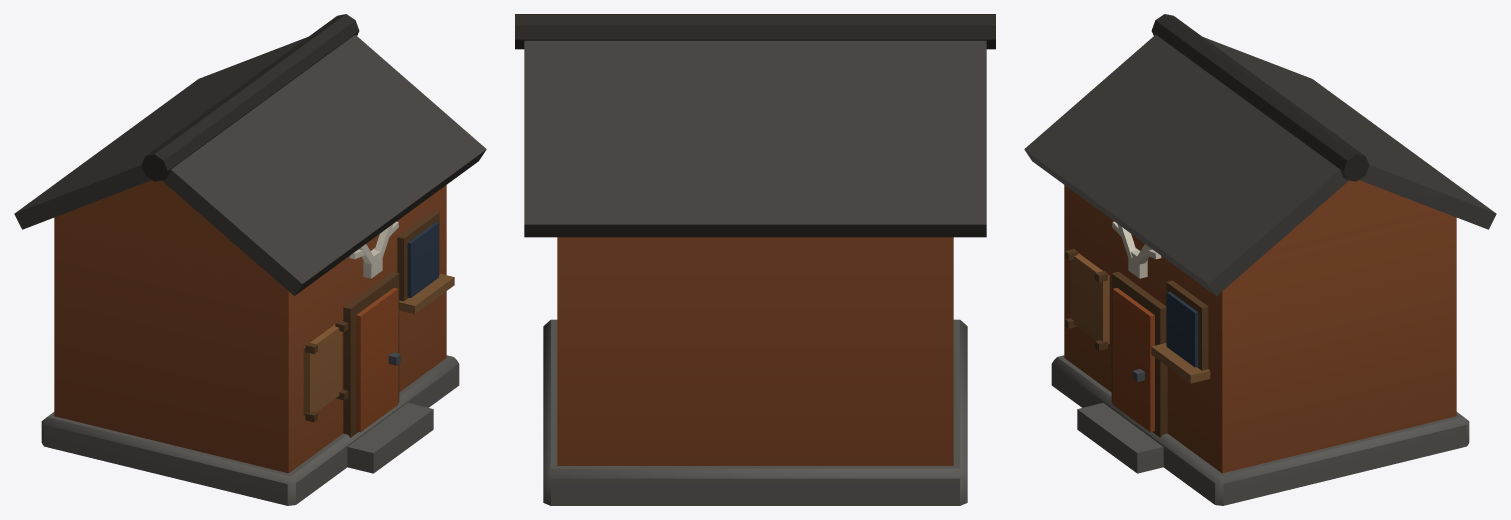
The model's file is building_7.glb.
3 views of the same model, side by side, from view 1: azimuth 30°, elevation 25°; view 2: azimuth 150°, elevation 25°; view 3: azimuth 270°, elevation 25° (orthographic). The views are drawn at different scales.
Visible parts, largest first — view 1: building_7; view 2: building_7; view 3: building_7.
Boxes of the visible parts, bbox=[...] form: building_7: bbox=[14, 14, 486, 505]; building_7: bbox=[515, 14, 995, 505]; building_7: bbox=[1024, 14, 1496, 505].
Bounding box in the file's own units: 0.6455 × 0.484 × 0.6281.
